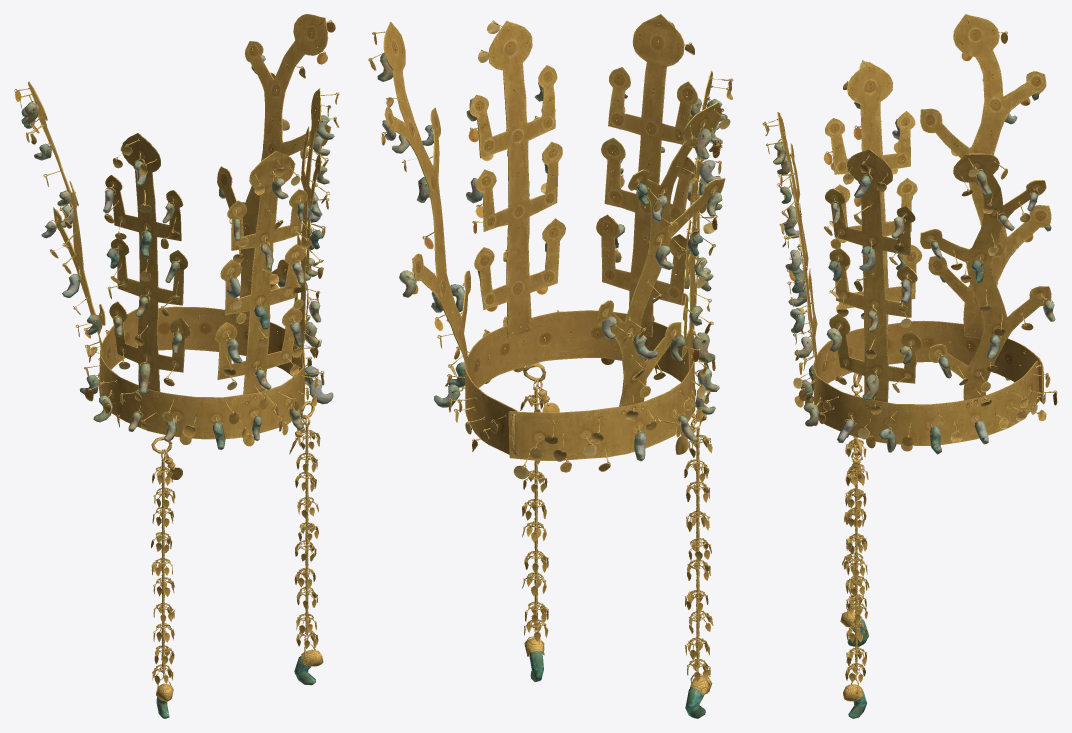
Rendered from crown.glb.
3 renders of one model, left to right at view 1: azimuth 30°, elevation 25°; view 2: azimuth 150°, elevation 25°; view 3: azimuth 270°, elevation 25°, orthographic. The views are drawn at different scales.
Visible parts, largest first — view 1: SM_ShillaCrown_05_Lowpoly_SM_ShillaCrown_06_0, SM_ShillaCrown_05_Lowpoly_SM_ShillaCrown_06_0.001; view 2: SM_ShillaCrown_05_Lowpoly_SM_ShillaCrown_06_0, SM_ShillaCrown_05_Lowpoly_SM_ShillaCrown_06_0.001; view 3: SM_ShillaCrown_05_Lowpoly_SM_ShillaCrown_06_0, SM_ShillaCrown_05_Lowpoly_SM_ShillaCrown_06_0.001.
Part boxes in pixels (x1,y1,x2,y2): SM_ShillaCrown_05_Lowpoly_SM_ShillaCrown_06_0: (14, 14, 339, 685); SM_ShillaCrown_05_Lowpoly_SM_ShillaCrown_06_0.001: (15, 20, 339, 718); SM_ShillaCrown_05_Lowpoly_SM_ShillaCrown_06_0: (368, 14, 733, 681); SM_ShillaCrown_05_Lowpoly_SM_ShillaCrown_06_0.001: (369, 22, 732, 718); SM_ShillaCrown_05_Lowpoly_SM_ShillaCrown_06_0: (762, 14, 1057, 718); SM_ShillaCrown_05_Lowpoly_SM_ShillaCrown_06_0.001: (763, 20, 1057, 647).
Size of the model in its own units: 0.3628 by 0.6691 by 0.2986.
Materials: 1 (1 with a texture image).
